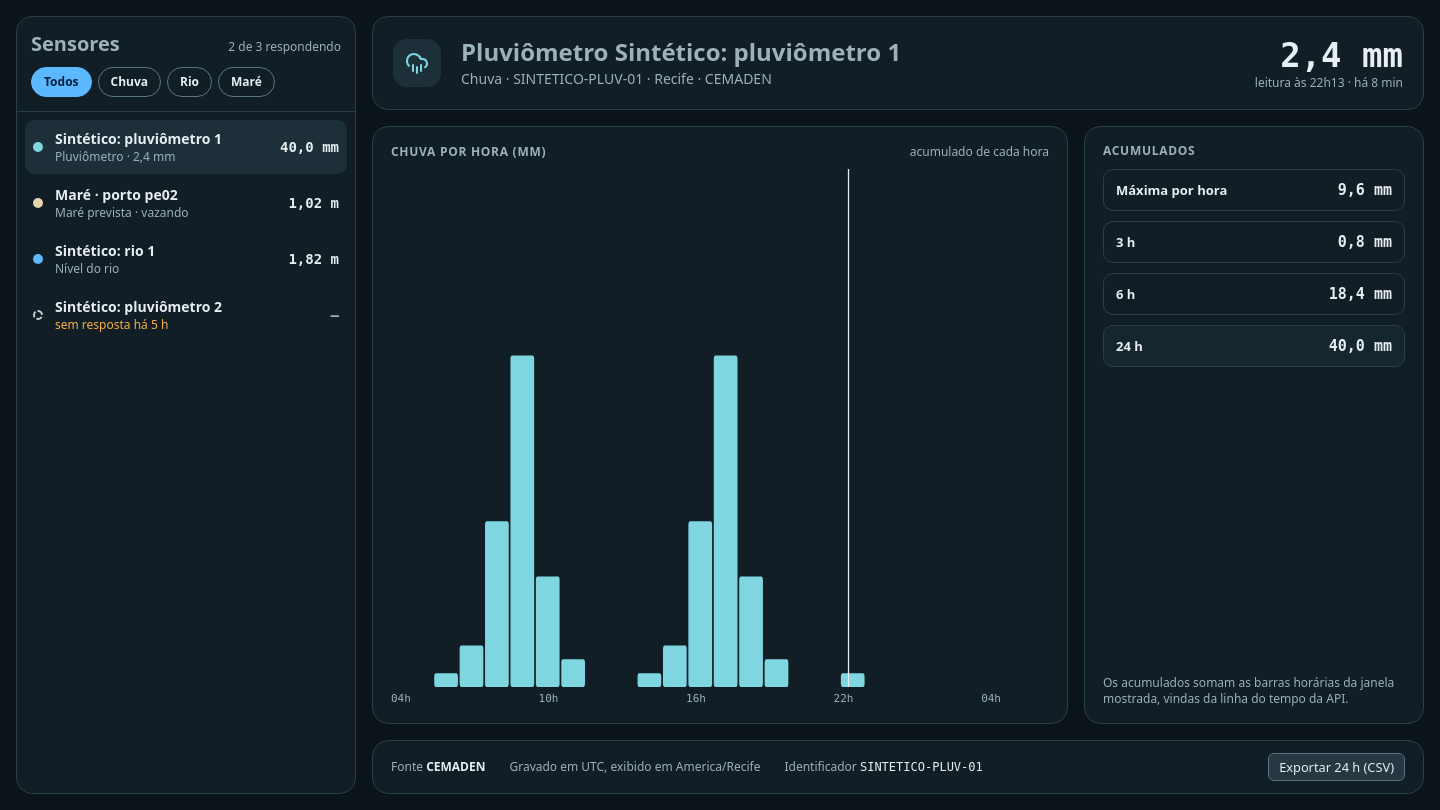
Test case: SensorsPage › seleciona o sensor e mostra o detalhe; sensor velho vem com aviso
What coordinates should you click on to do the following:
click the button "Sintético: pluviômetro 2 sem resposta há 5 h —"
I would click on:
 (186, 315)
Its box is [25,288,347,342].
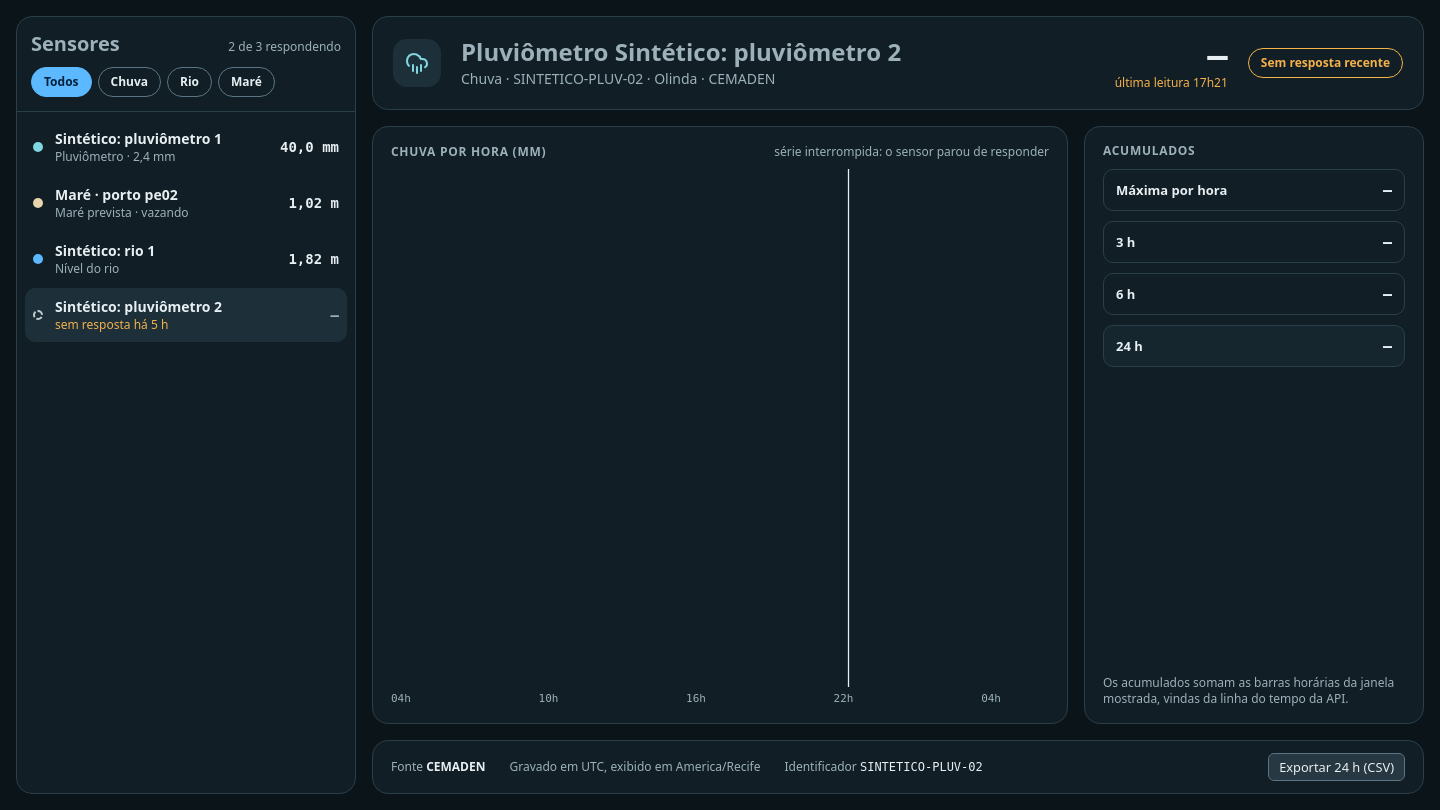
Check: the text "Sem resposta recente" is shown, box [1248,48,1403,78]
Check: the text "—" next to "Sem resposta recente" is shown, box [1207,35,1228,75]
